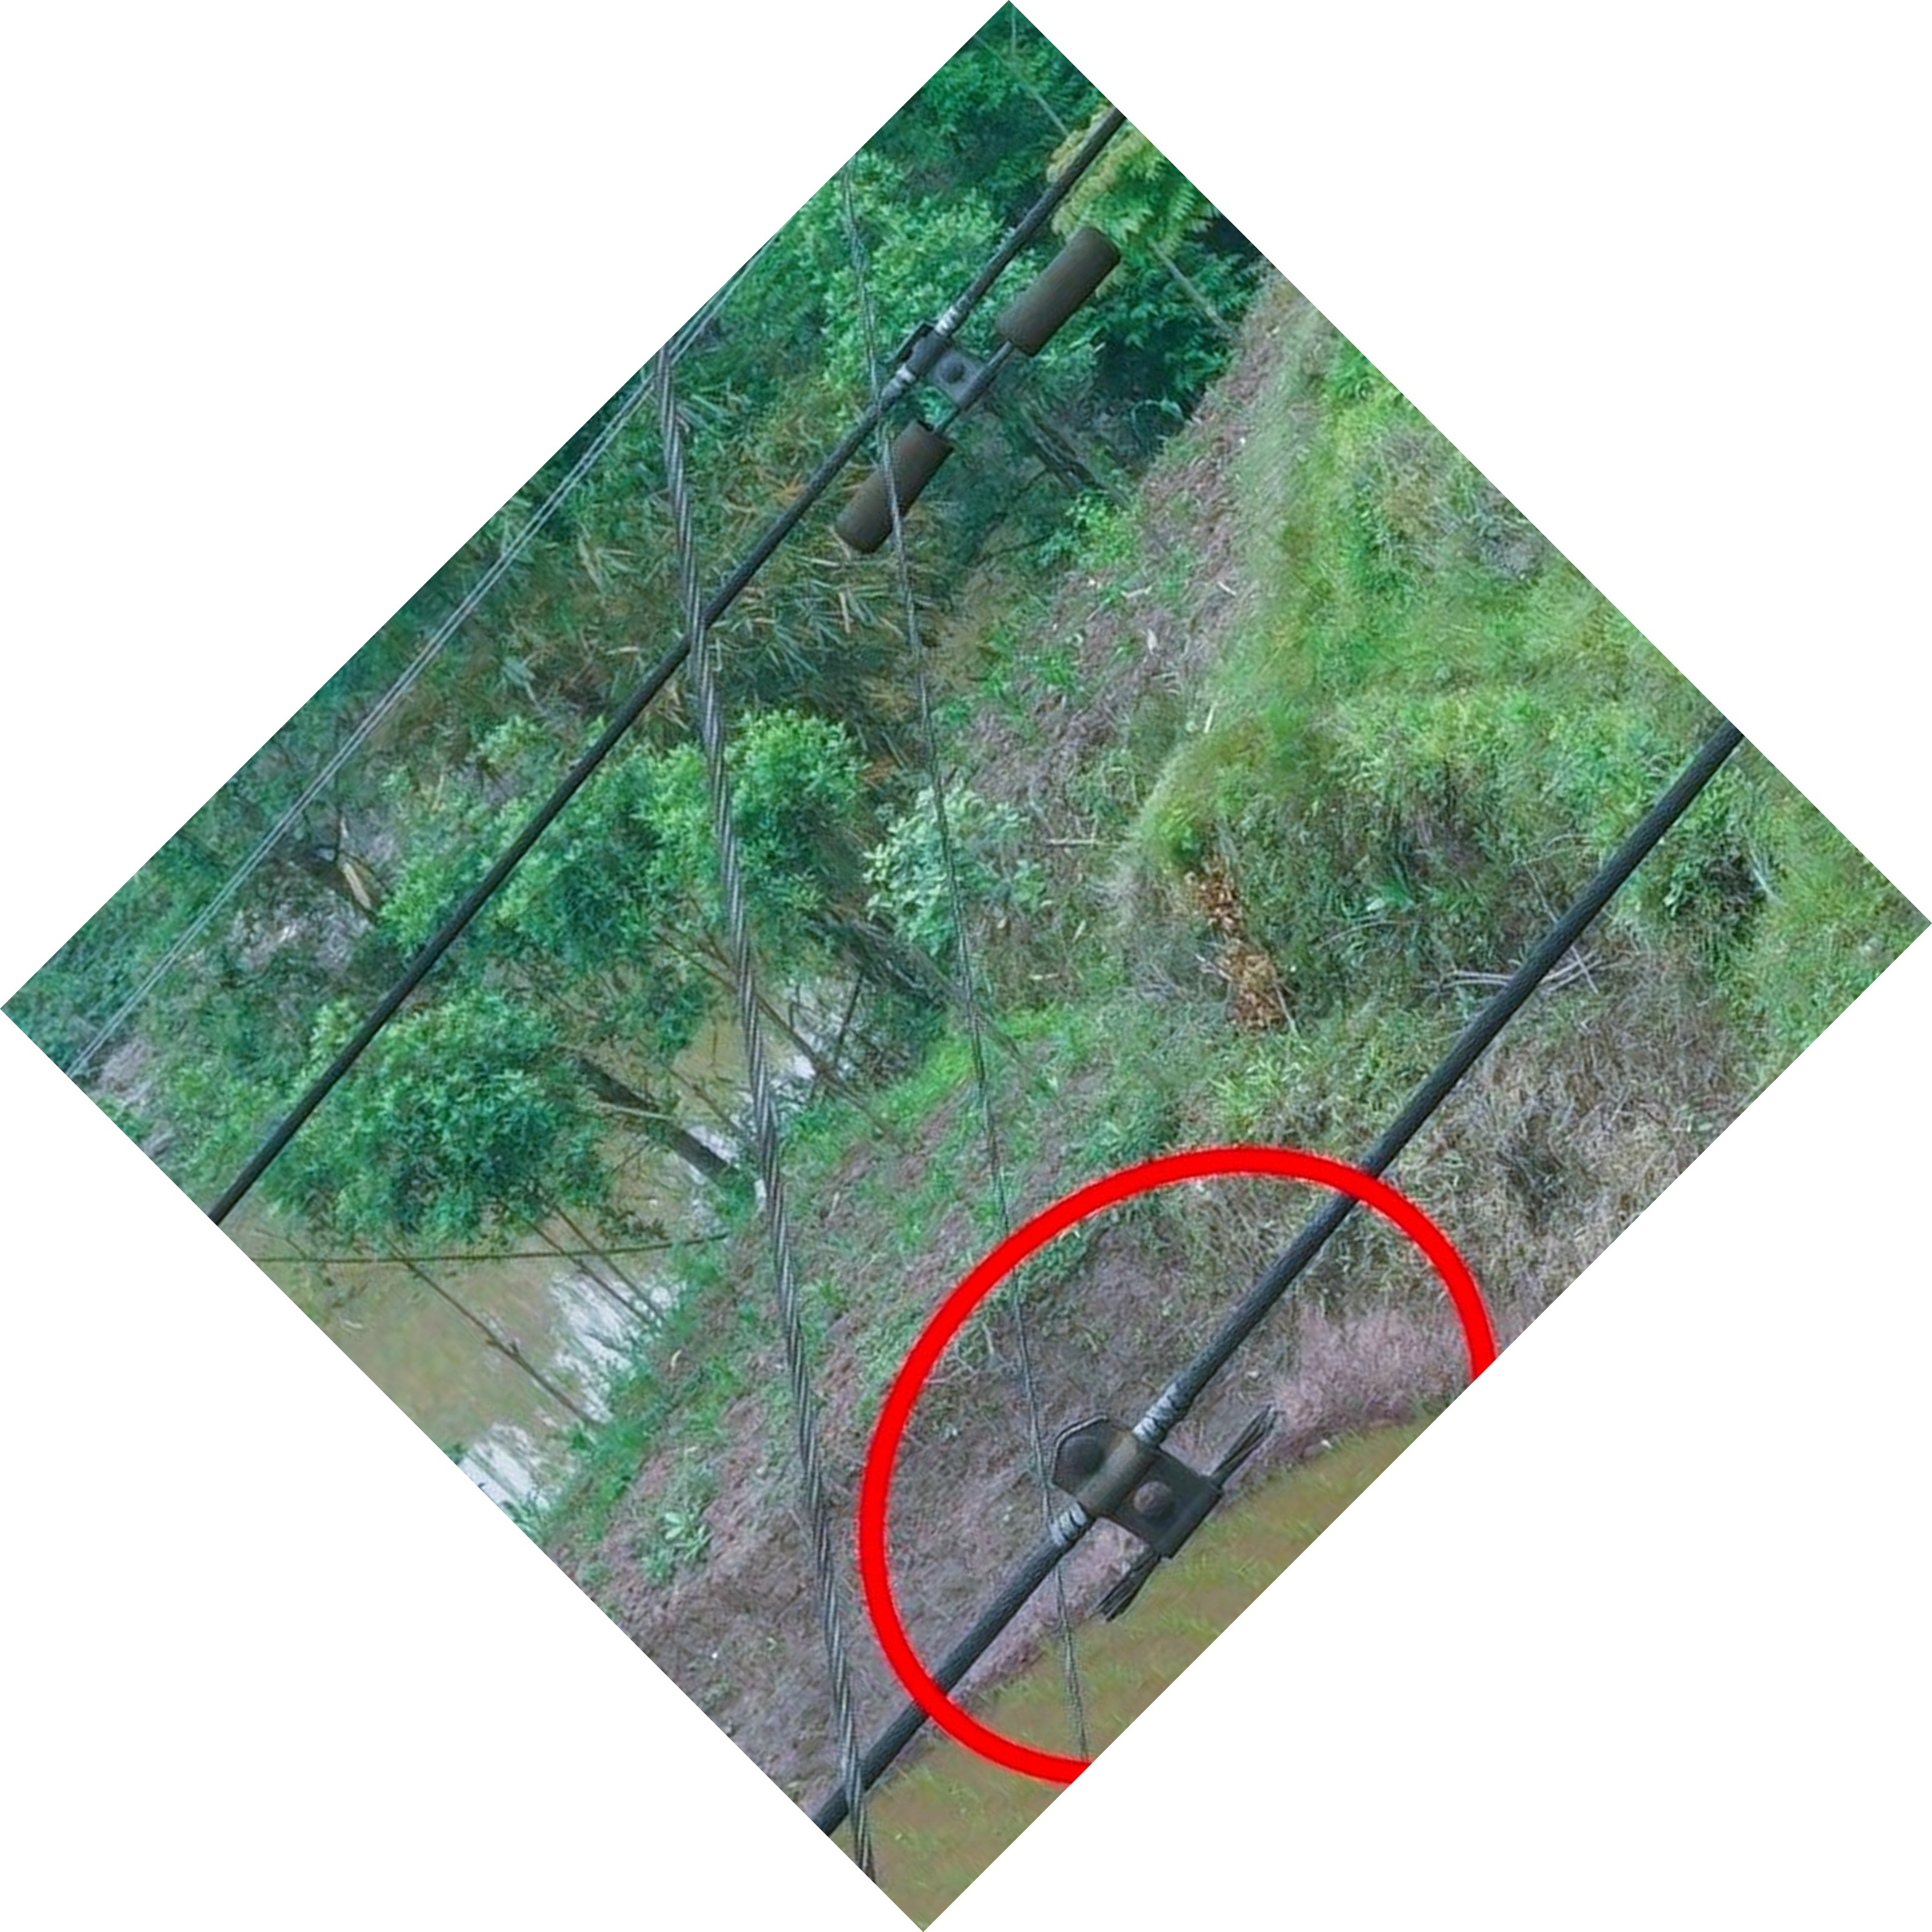Damage of shockproof hammer: (1019, 1353, 1325, 1640)
